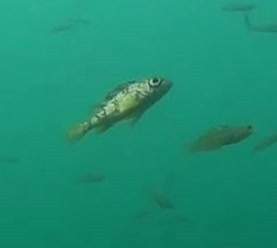mebaru: (70, 73, 170, 137)
smallfish: (181, 115, 255, 156)
